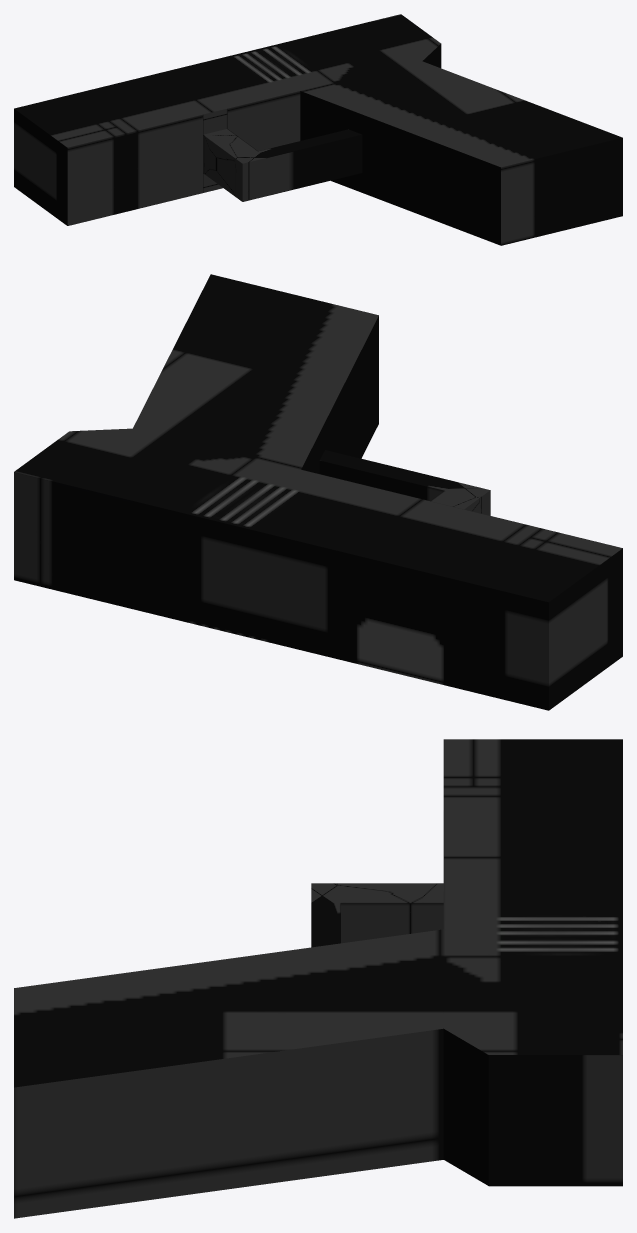
Rendered from Glock18c_fbx.FBX.
The picture shows the model from 3 angles, top to bottom: view 1: azimuth 30°, elevation 25°; view 2: azimuth 150°, elevation 25°; view 3: azimuth 270°, elevation 25°; orthographic projection. The views are drawn at different scales.
Parts seen in each view (by area): view 1: Box001; view 2: Box001; view 3: Box001.
Boxes of the visible parts, x1,y1,x2,y2 form: Box001: [14, 14, 622, 245]; Box001: [14, 274, 622, 710]; Box001: [14, 739, 622, 1218].
Bounding box in the file's own units: 56.97 × 10 × 42.11.
Materials: 1 (1 with a texture image).
